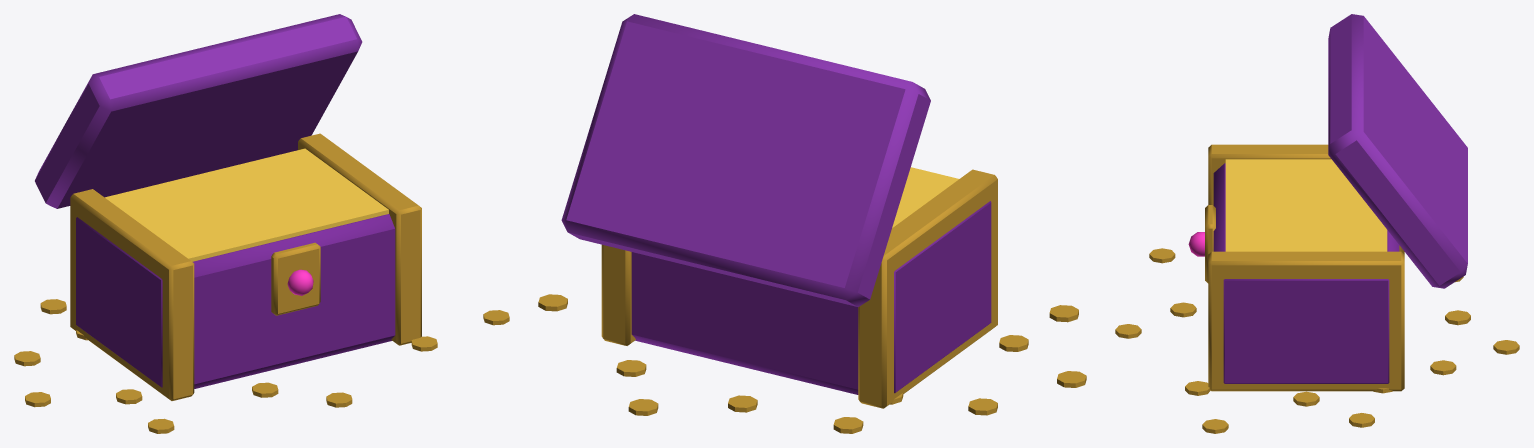
The model's file is loot_chest.glb.
The picture shows the model from 3 angles, left to right: view 1: azimuth 30°, elevation 25°; view 2: azimuth 150°, elevation 25°; view 3: azimuth 270°, elevation 25°; orthographic projection. The views are drawn at different scales.
Visible parts, largest first — view 1: loot_chest; view 2: loot_chest; view 3: loot_chest.
Boxes of the visible parts, box(x1,y1,x2,y2) form: loot_chest: box(14, 14, 509, 433); loot_chest: box(538, 14, 1086, 433); loot_chest: box(1115, 14, 1519, 433).
Size of the model in its own units: 2.3 by 1.32 by 1.85.
